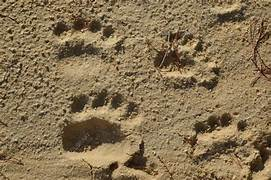bear: (55, 88, 138, 153)
